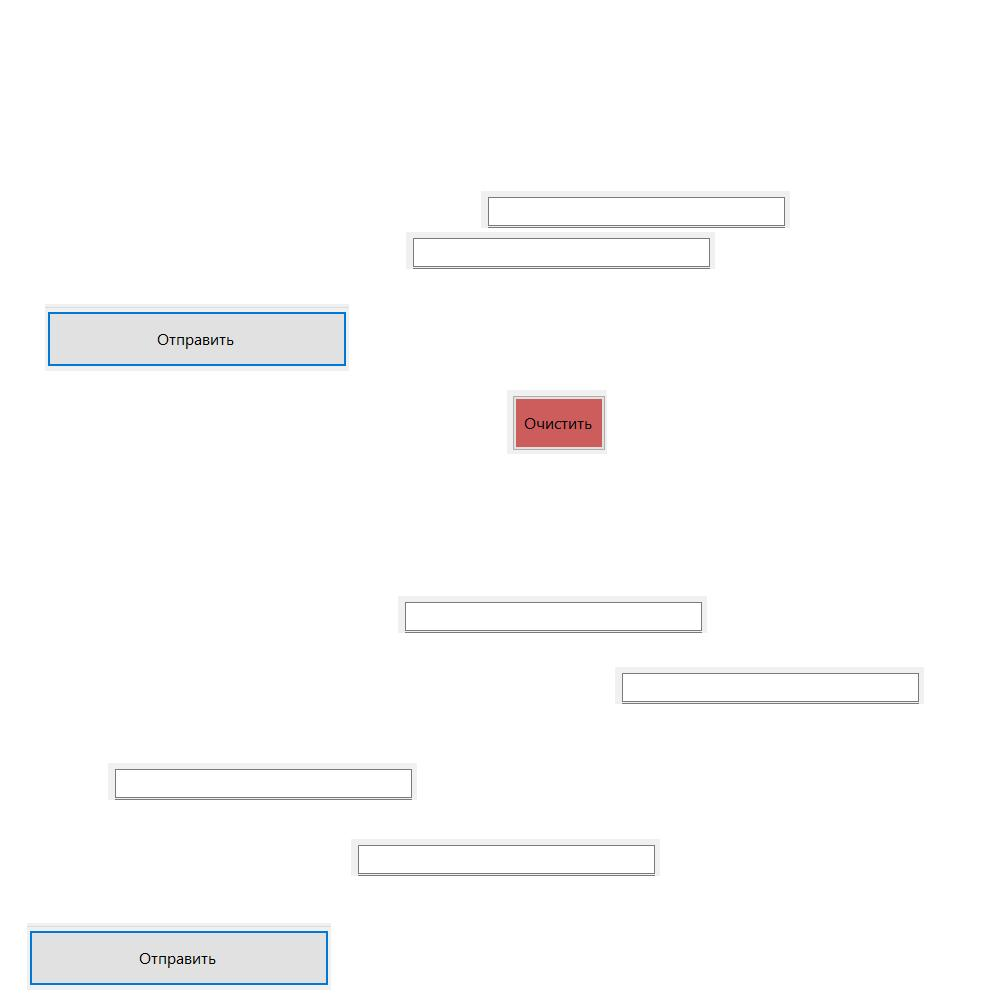Button: (27, 923, 331, 990), (45, 304, 349, 371), (507, 390, 607, 454)
EditText-: (398, 596, 707, 633), (351, 839, 660, 876), (615, 667, 924, 704), (481, 191, 790, 228), (406, 232, 715, 269), (108, 763, 417, 800)
